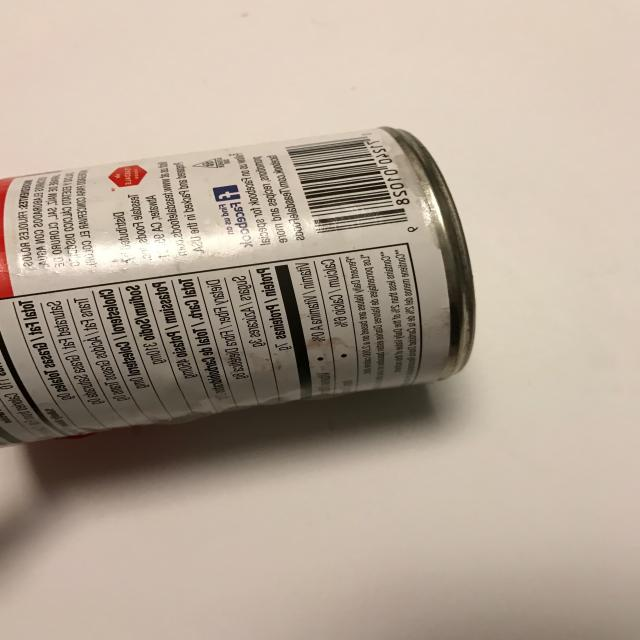metal: (0, 125, 477, 453)
